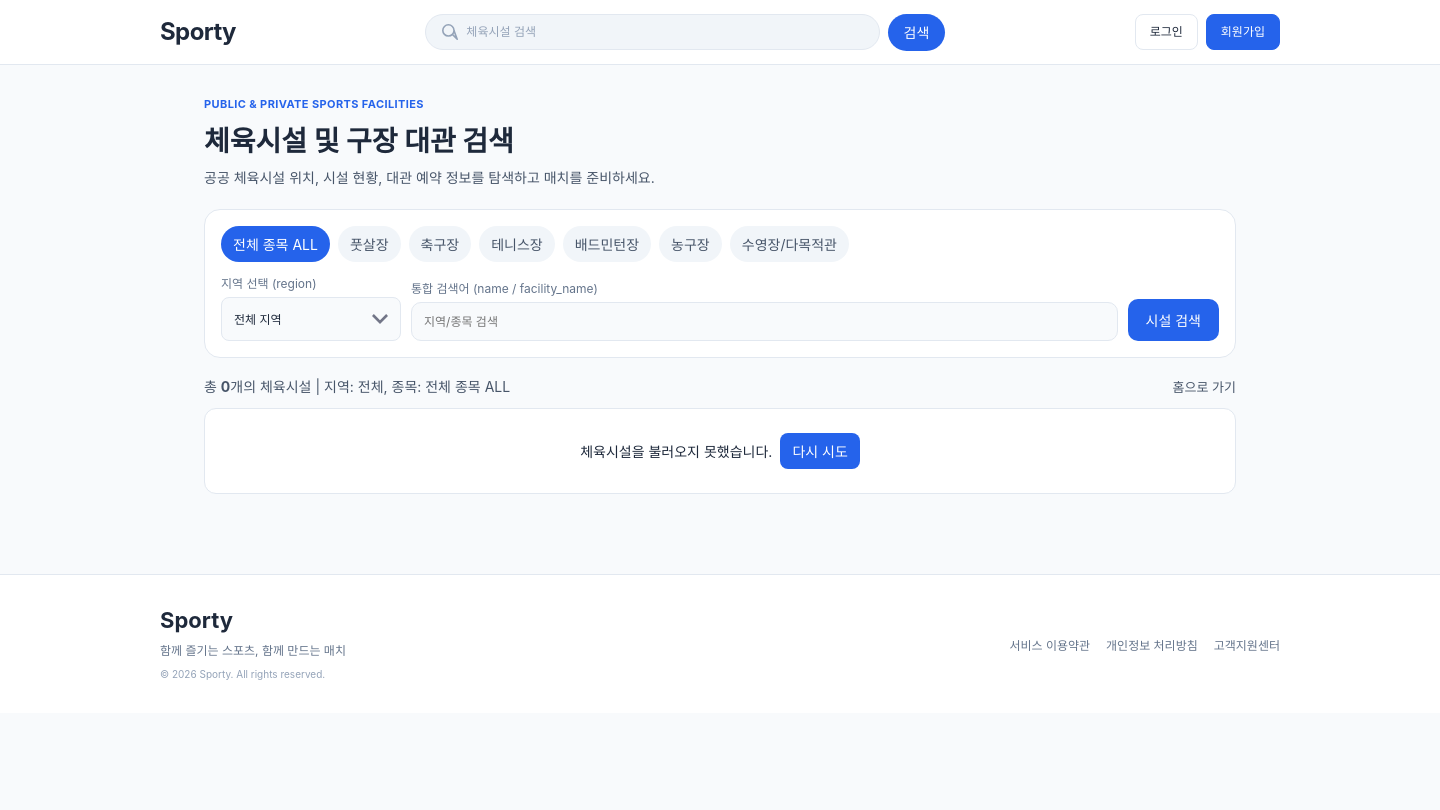
Test case: 조회 실패 시 다시 시도할 수 있다
Expected: the message shows "체육시설을 불러오지 못했습니다.", [580,443,772,460]
Click the button "다시 시도": point(820, 451) [780,433,860,469]
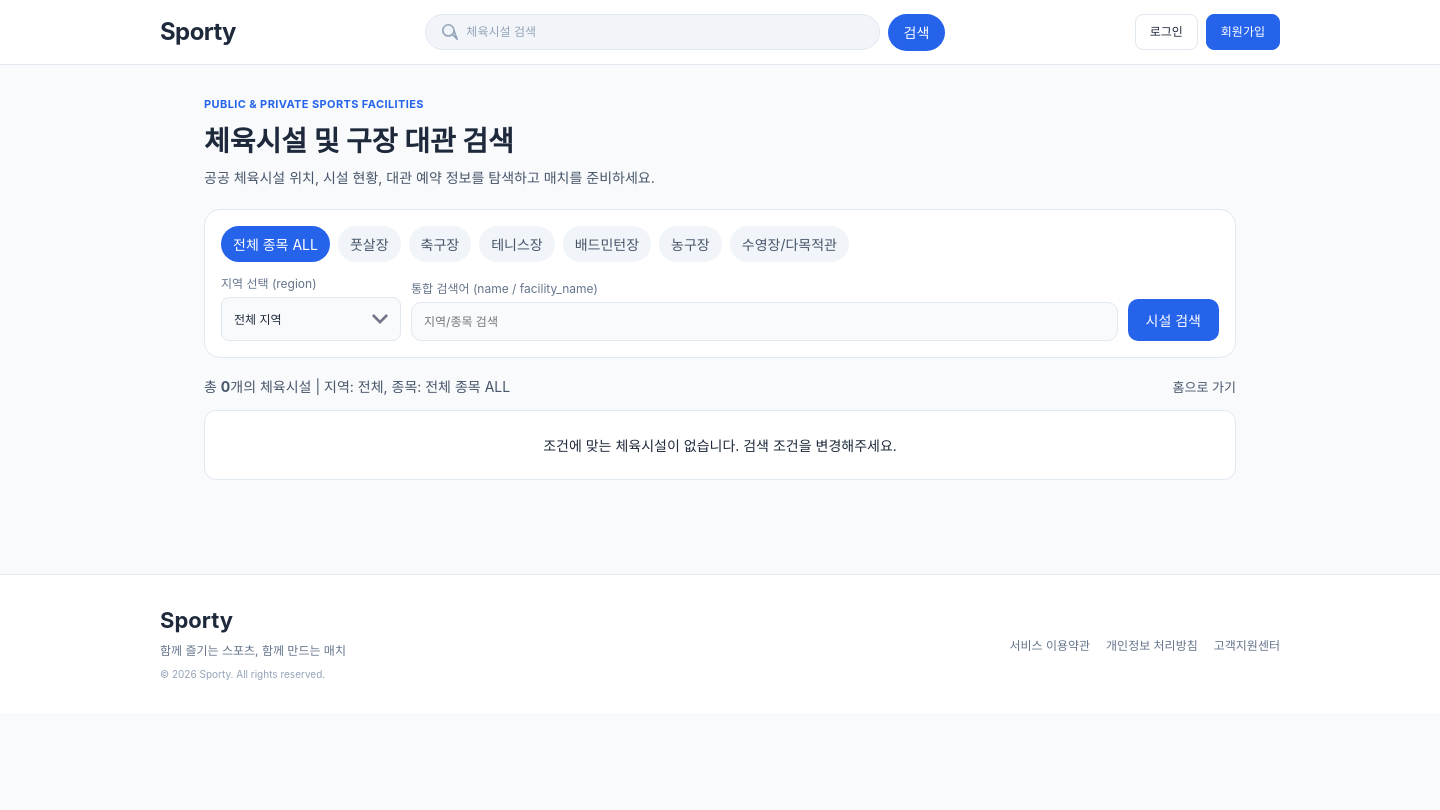
Now the text "조건에 맞는 체육시설이 없습니다. 검색 조건을 변경해주세요." is shown, box [204,410,1236,480]
